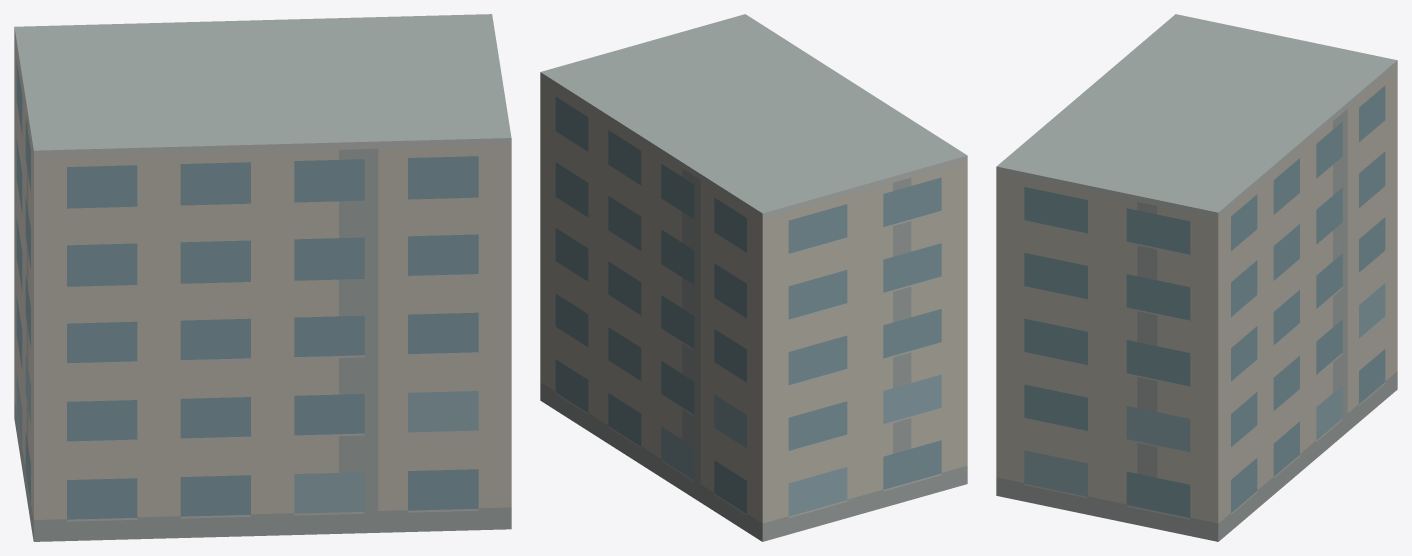
Rendered from survey-upis-33021991.glb.
3 renders of one model, left to right at view 1: azimuth 30°, elevation 25°; view 2: azimuth 150°, elevation 25°; view 3: azimuth 270°, elevation 25°, orthographic. The views are drawn at different scales.
Parts seen in each view (by area): view 1: survey-upis-33021991.tmp; view 2: survey-upis-33021991.tmp; view 3: survey-upis-33021991.tmp.
Boxes of the visible parts, x1,y1,x2,y2 form: survey-upis-33021991.tmp: (14, 14, 511, 541); survey-upis-33021991.tmp: (540, 14, 967, 541); survey-upis-33021991.tmp: (996, 14, 1397, 541).
Size of the model in its own units: 17.09 by 13.2 by 14.58.
